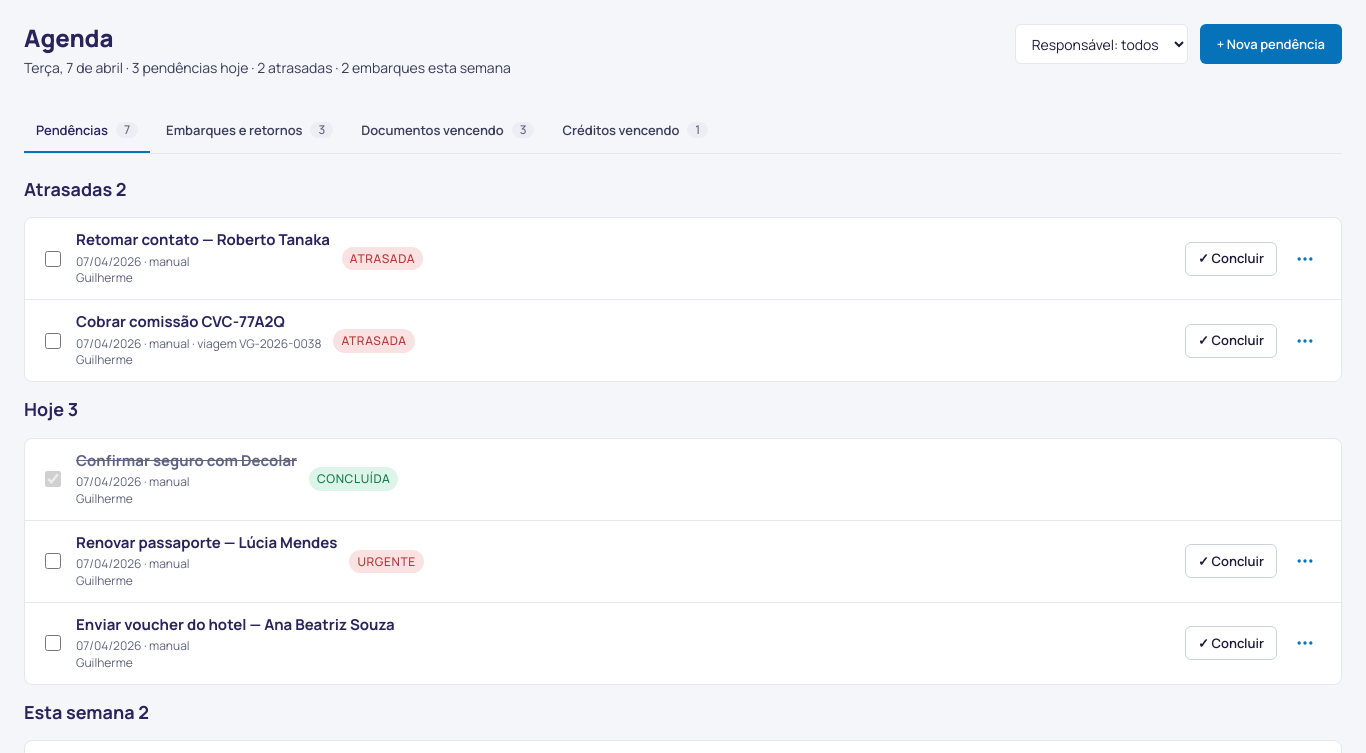
Test: 'Documentos vencendo' mostra Passaporte não cadastrado e coluna Alerta 'sem pendência criada'
Expected: the heading "Atrasadas 2" is shown, [24,177,126,201]
Step 1. Click the tab "Documentos vencendo 3" → (448, 131), box [349,110,546,153]
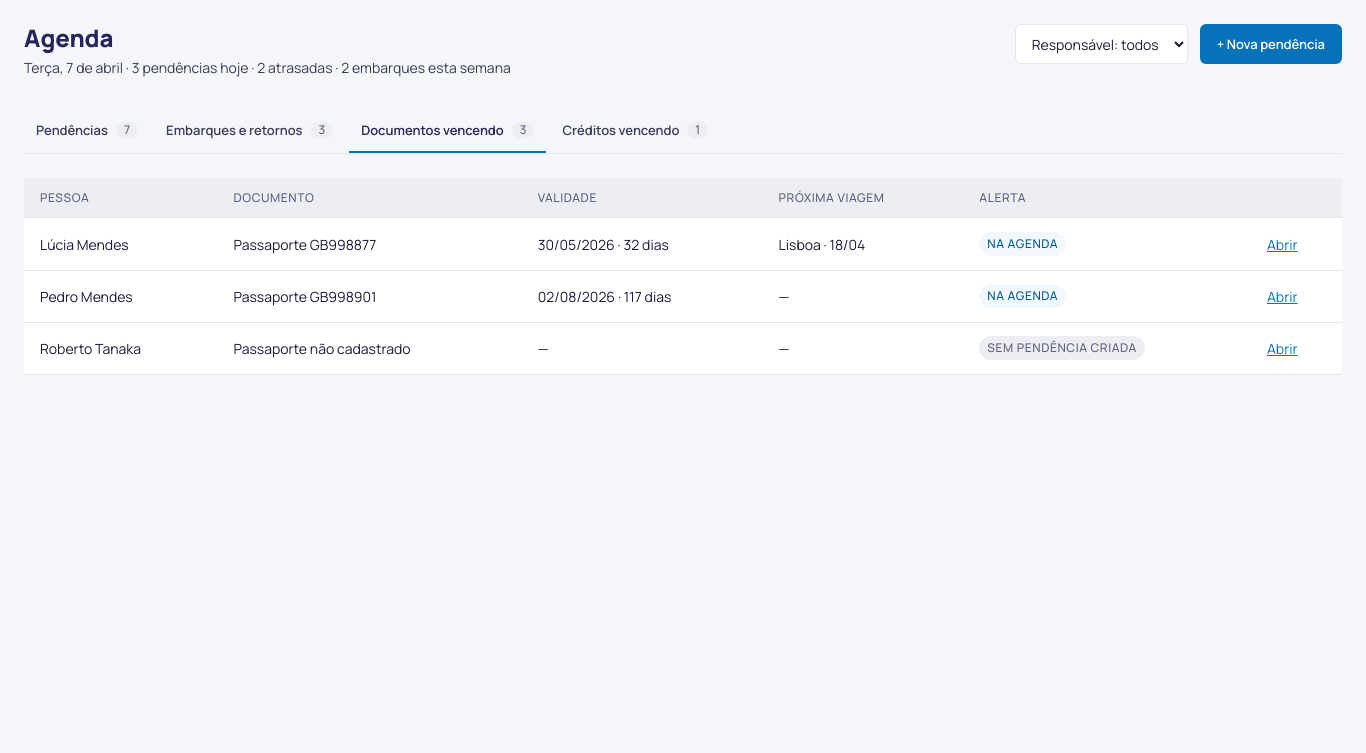
Now the text "Passaporte não cadastrado" is shown, box [218,322,522,374]
Now the column heading "Alerta" is shown, box [963,178,1251,218]
Now the text "sem pendência criada" is shown, box [979,336,1145,360]
